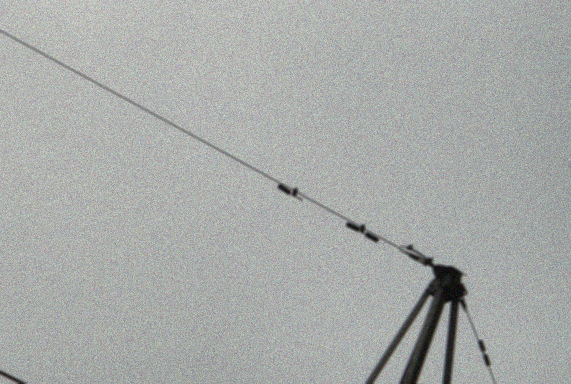damper: (343, 220, 380, 244), (475, 337, 493, 368)
damper_defect: (276, 182, 306, 203)
